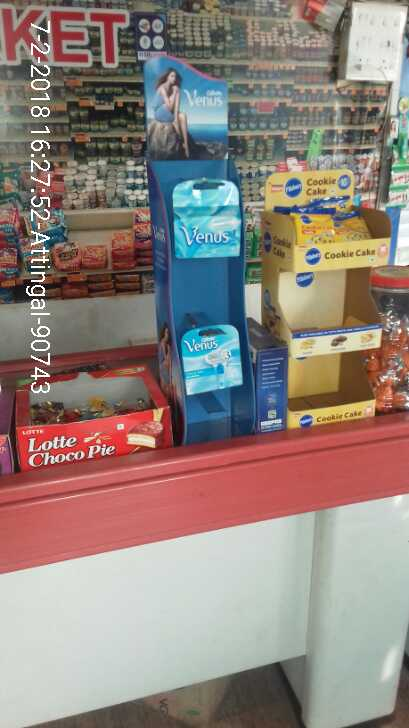venus: (172, 180, 246, 258), (180, 323, 246, 394)
